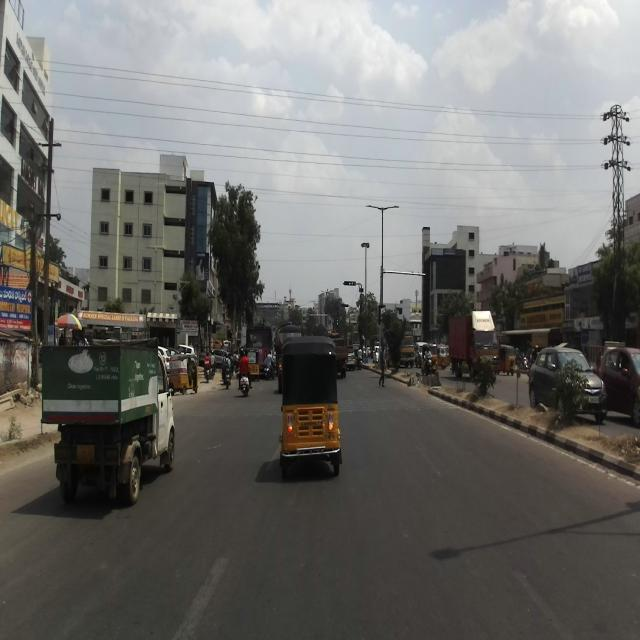autorickshaw: (278, 334, 342, 477)
car: (528, 346, 608, 422)
truck: (41, 337, 175, 506)
